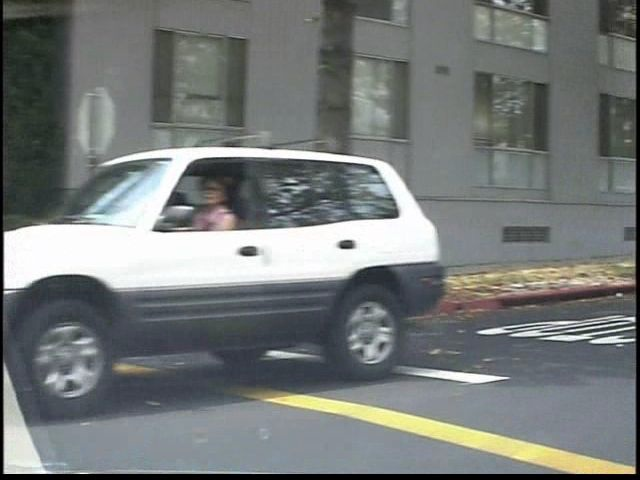person: (196, 165, 289, 399)
